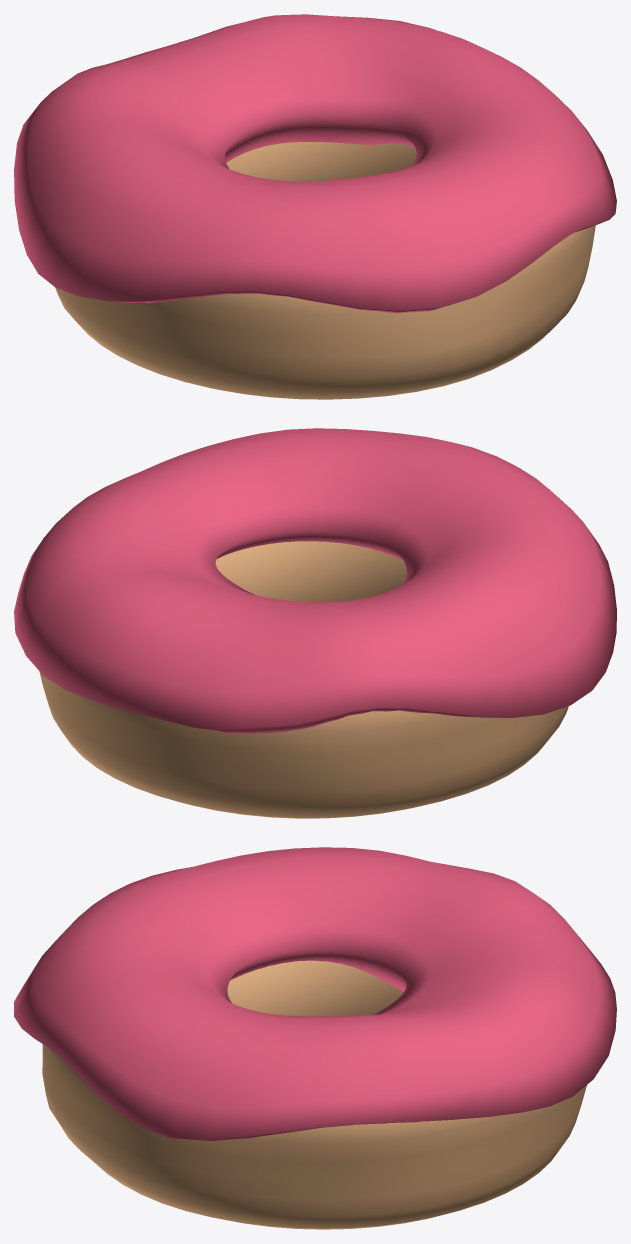
The model's file is doughnut.fbx.
The picture shows the model from 3 angles, top to bottom: view 1: azimuth 30°, elevation 25°; view 2: azimuth 150°, elevation 25°; view 3: azimuth 270°, elevation 25°; orthographic projection. The views are drawn at different scales.
Visible parts, largest first — view 1: Torus.001, Torus.002; view 2: Torus.001, Torus.002; view 3: Torus.001, Torus.002.
Boxes of the visible parts, x1,y1,x2,y2 form: Torus.001: (14,14,616,313); Torus.002: (55,142,595,399); Torus.001: (14,428,616,734); Torus.002: (39,541,568,818); Torus.001: (14,847,616,1141); Torus.002: (42,960,586,1229).
Size of the model in its own units: 14.66 by 5.47 by 14.98.
